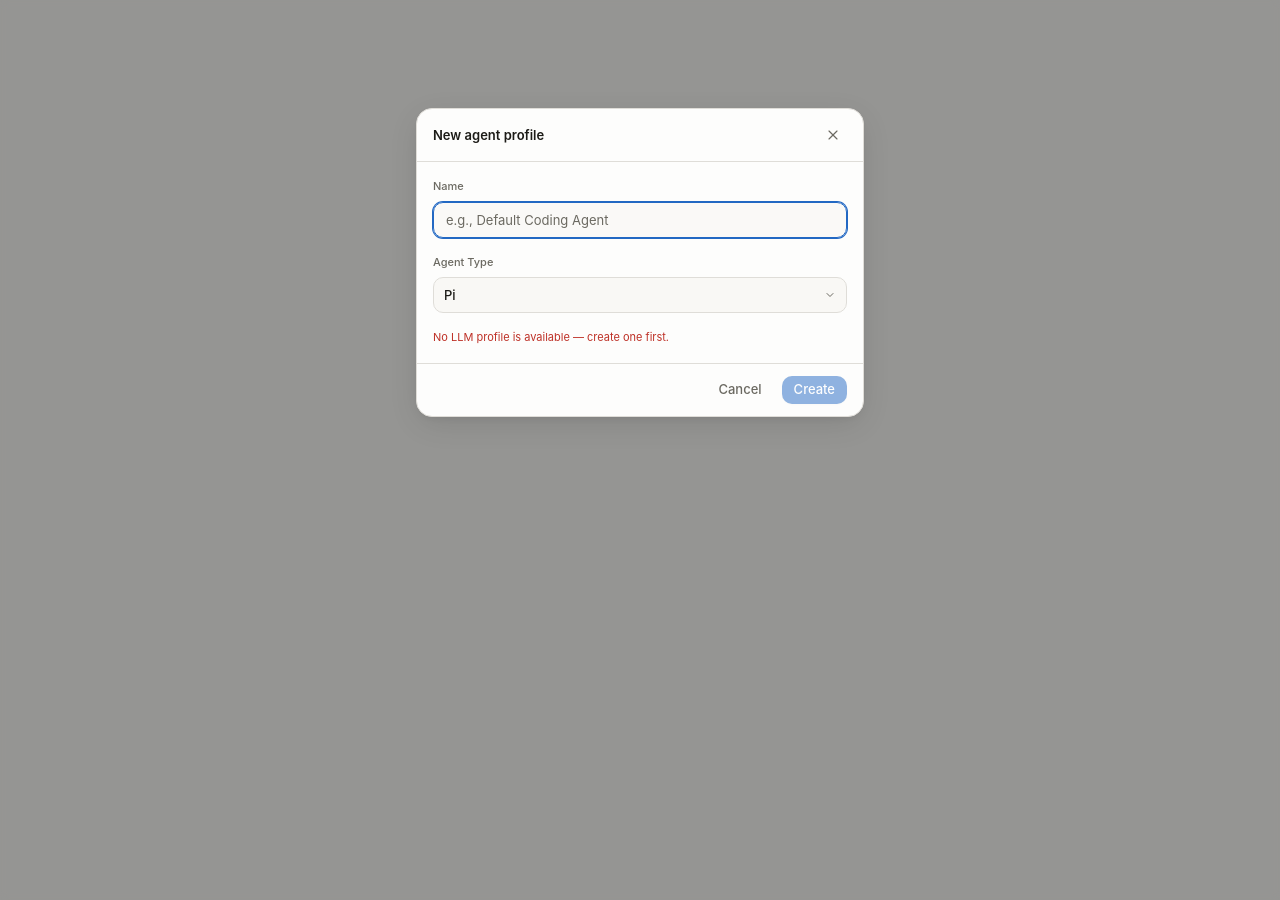
Test: NewAgentProfileModal › shows an inline error and keeps Create disabled when the default LLM profile has no models
Type "Coding" into the field labelled "Name".
click(640, 220); type("Coding")  # box x1=433 y1=202 x2=847 y2=238
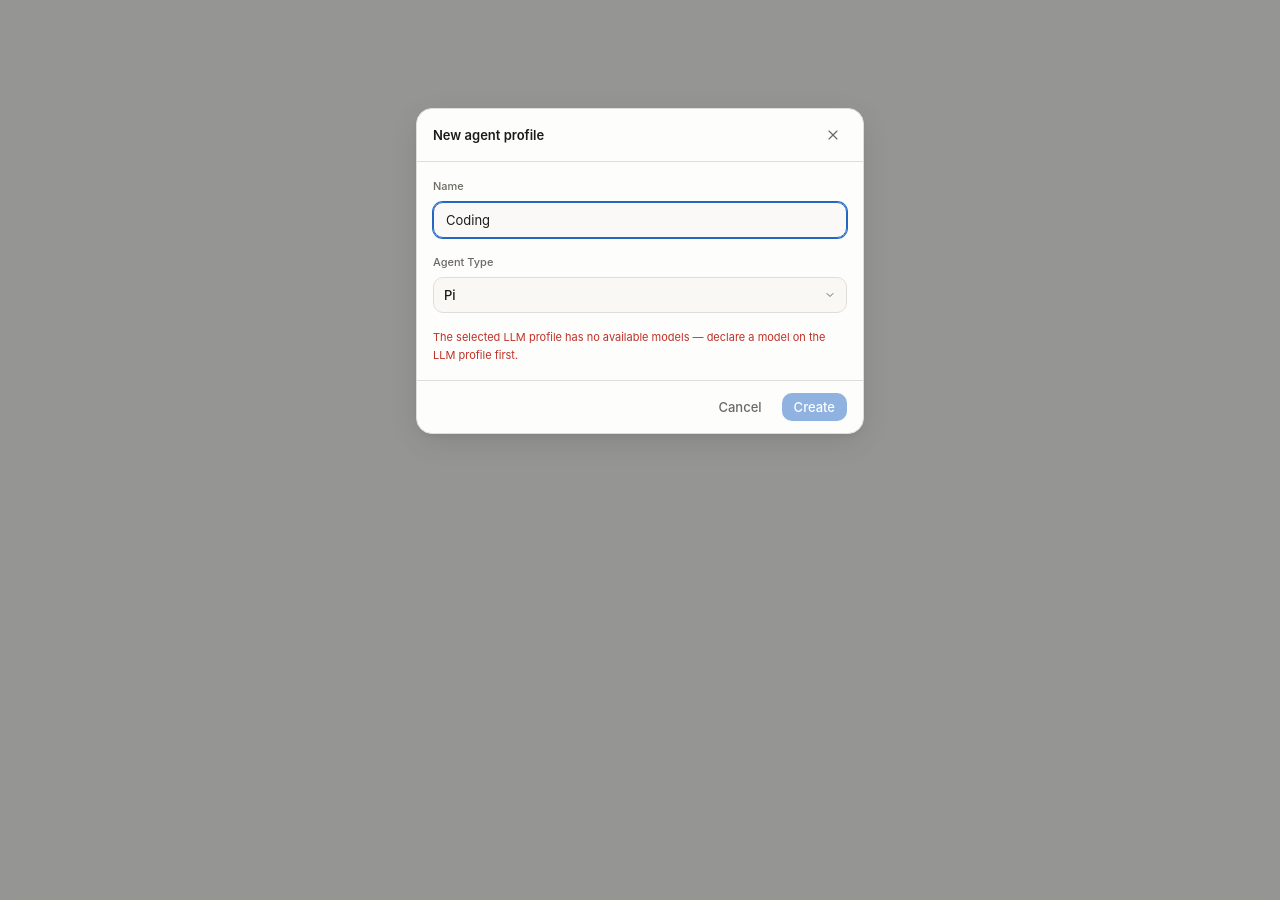
Expected: the button "Create" is disabled, x1=782 y1=393 x2=847 y2=421
Now the text "no available models" is shown, box x1=433 y1=330 x2=826 y2=362
